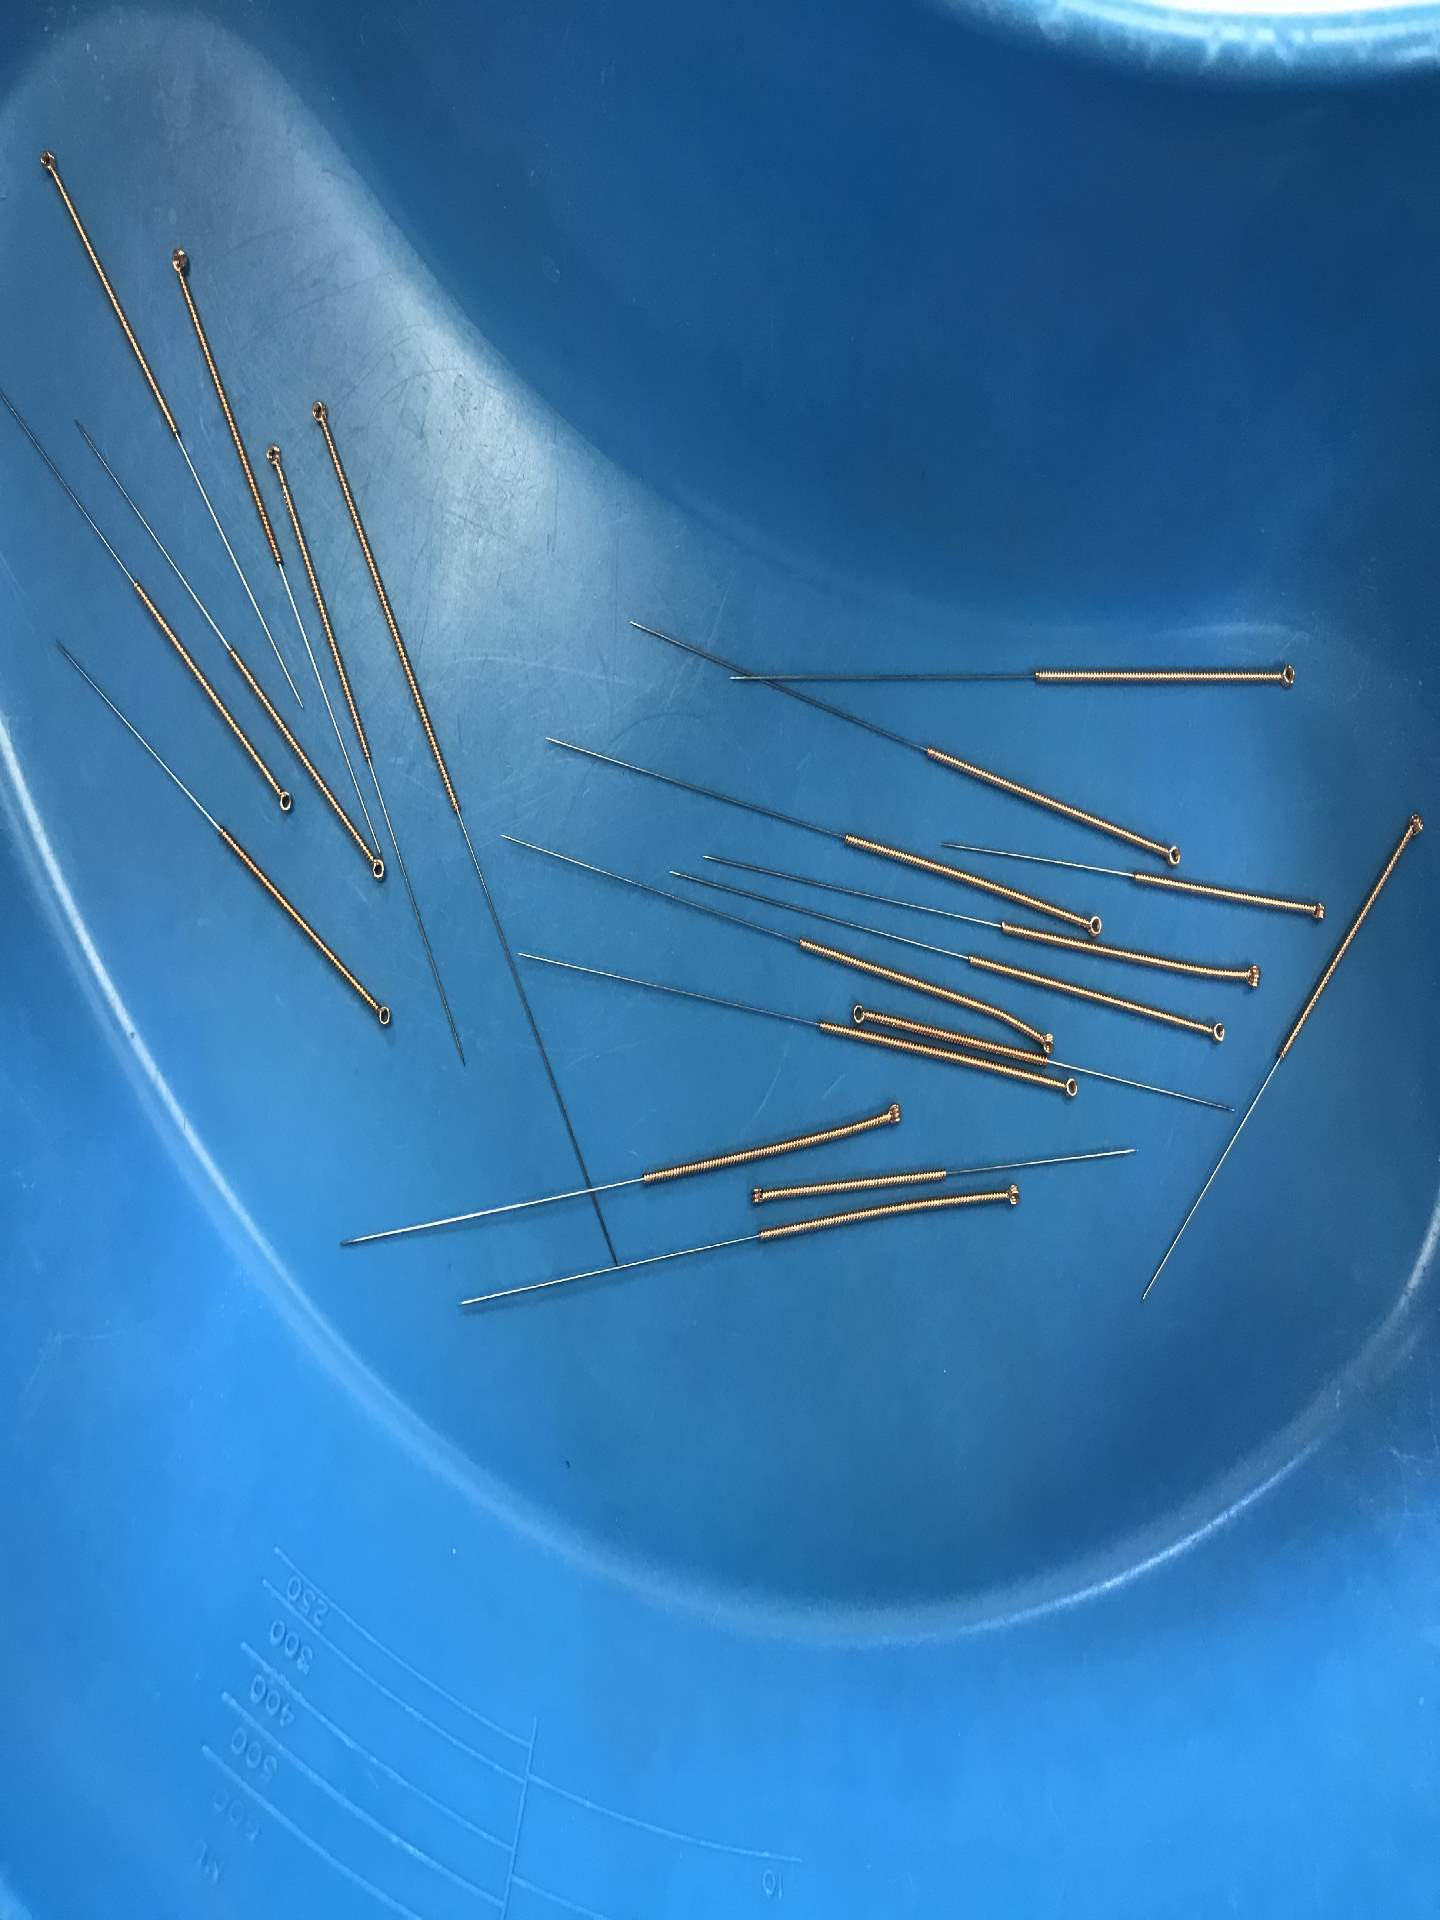needle: (1268, 655, 1305, 694), (1396, 803, 1432, 844), (163, 240, 194, 289), (32, 141, 64, 184), (303, 392, 333, 435), (1153, 836, 1189, 872), (259, 434, 290, 475), (1233, 957, 1268, 993), (1199, 1013, 1233, 1051), (366, 996, 399, 1034), (360, 847, 390, 887), (844, 995, 879, 1030), (877, 1096, 909, 1132), (1026, 1023, 1059, 1057), (269, 782, 298, 819), (1299, 895, 1333, 927), (1077, 909, 1109, 940), (997, 1179, 1027, 1212), (1054, 1073, 1085, 1104), (743, 1179, 771, 1211)
